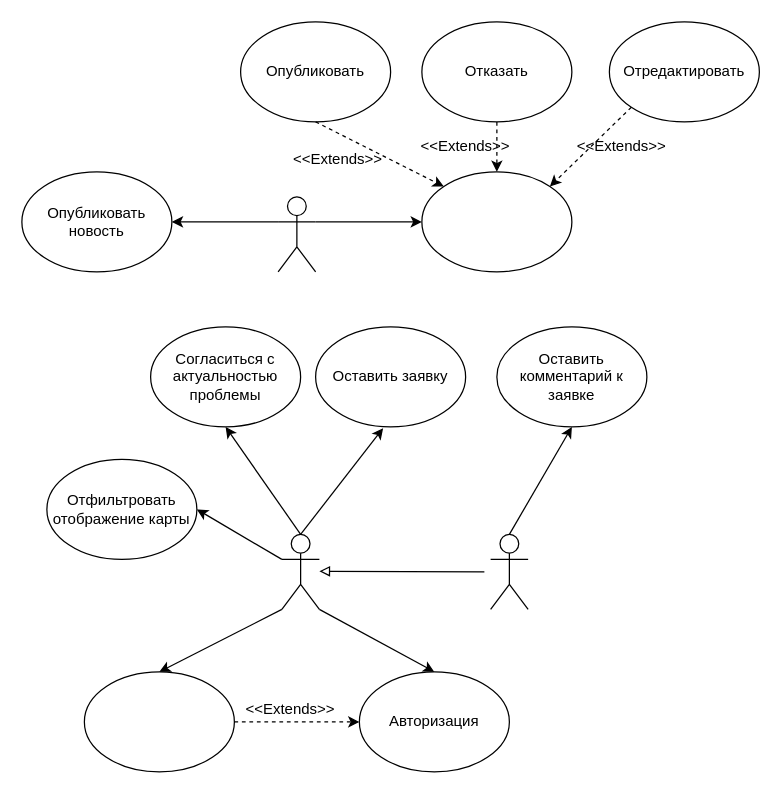
The diagram is 781 pixels wide and 794 high, and some of its shapes have lost their labels. The shapes that lost their labels are listed below. From the top down, each one's box as (x1, y1, x2, y2) in pixels, then its label:
(277, 196, 316, 272): Модератор
(421, 171, 572, 272): Рассмотреть заявку
(281, 533, 319, 609): Гость
(489, 533, 528, 609): Пользователь
(83, 671, 234, 772): Регистрация
